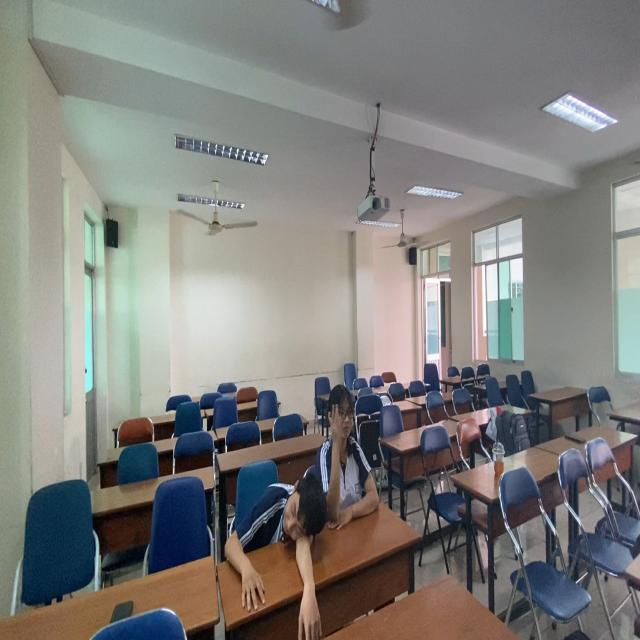raise_hand: (324, 382, 383, 530)
sleep: (223, 472, 330, 640)
